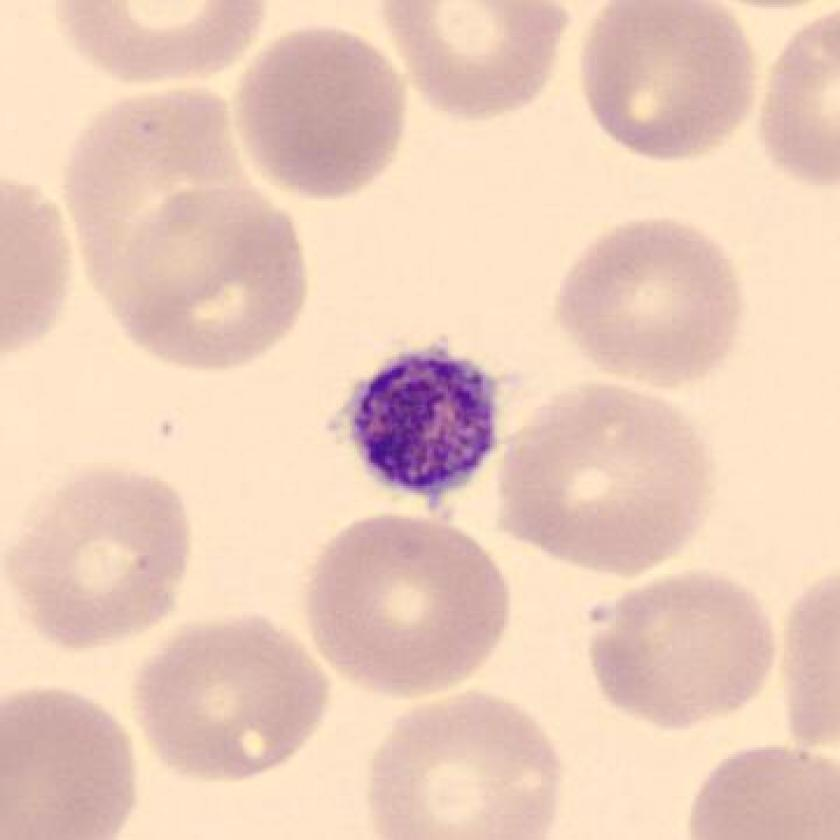platelets: (337, 334, 514, 510)
